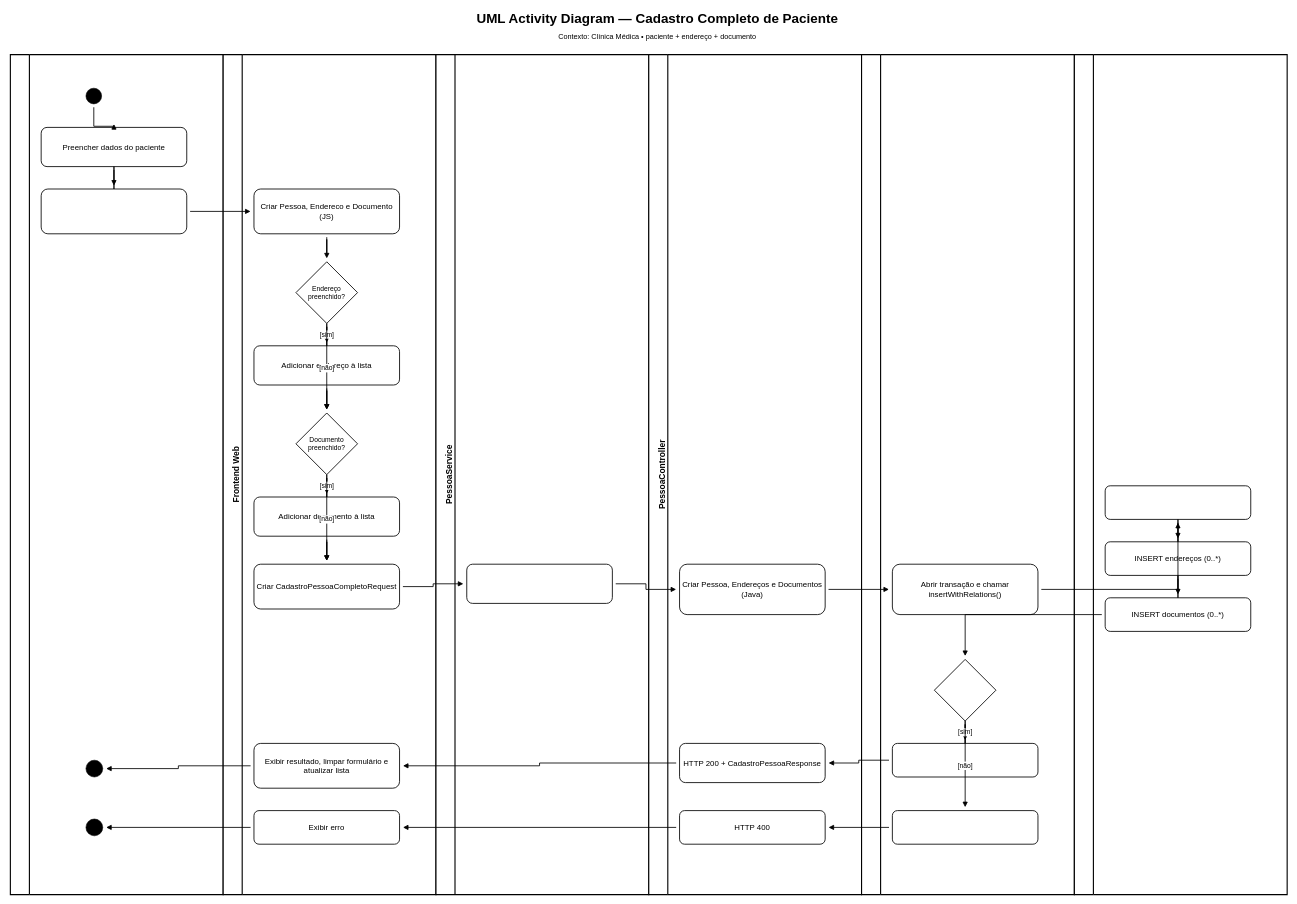
The diagram is 1297 pixels wide and 904 high, and some of its shapes have lost their labels. Here are the shapes that lost their labels. From the top down, the box of each, then its label:
(40, 188, 187, 234): Preencher endereço e documento (opcionais)
(10, 54, 223, 895): Recepcionista
(861, 54, 1075, 895): PessoaJdbcRepository
(1074, 54, 1287, 895): PostgreSQL
(1104, 485, 1251, 520): INSERT pessoa
(466, 564, 613, 604): POST /api/pessoas/completo
(934, 659, 996, 721): Todos os INSERTs OK?
(892, 743, 1038, 777): COMMIT
(892, 810, 1038, 844): ROLLBACK
